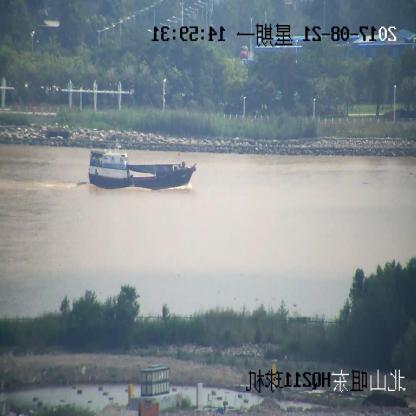Fishing Boat: (87, 133, 195, 189)
